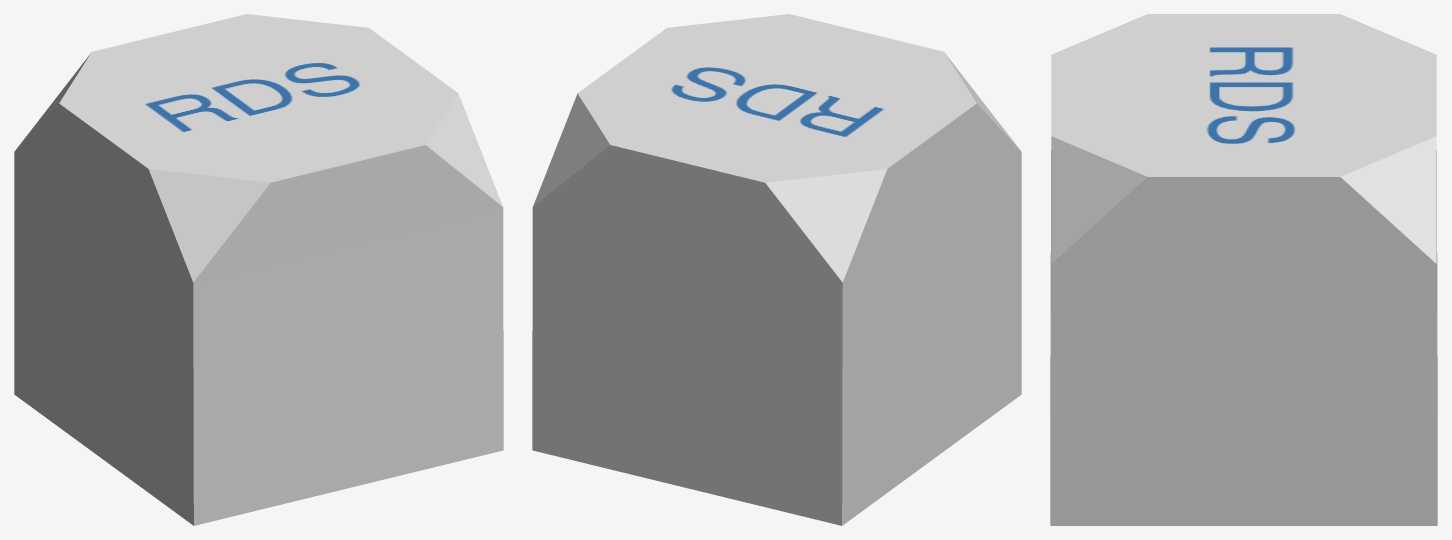
The model's file is RDS.dae.
3 renders of one model, left to right at view 1: azimuth 30°, elevation 25°; view 2: azimuth 150°, elevation 25°; view 3: azimuth 270°, elevation 25°, orthographic. The views are drawn at different scales.
Parts seen in each view (by area): view 1: RDS; view 2: RDS; view 3: RDS.
Boxes of the visible parts, x1,y1,x2,y2 form: RDS: (14,14,503,525); RDS: (532,14,1021,525); RDS: (1050,14,1437,525).
Size of the model in its own units: 2 by 2.01 by 2.
Materials: 1 (1 with a texture image).
